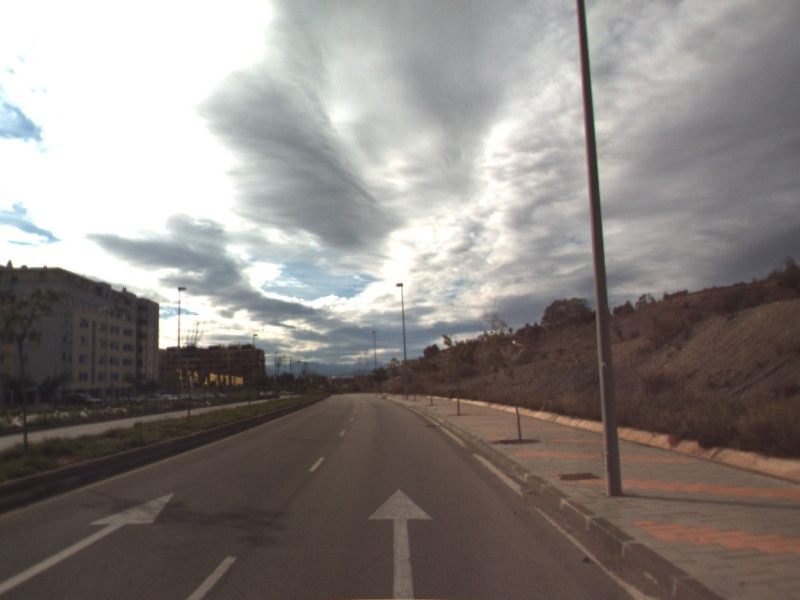STRAIGHT: (1, 491, 176, 595), (366, 486, 435, 600)
